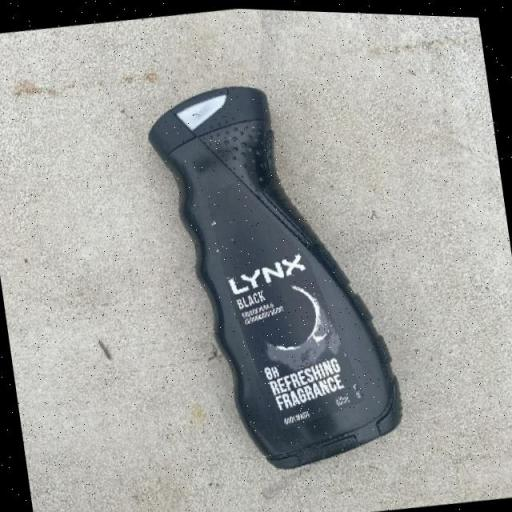plastic: (140, 62, 410, 484)
